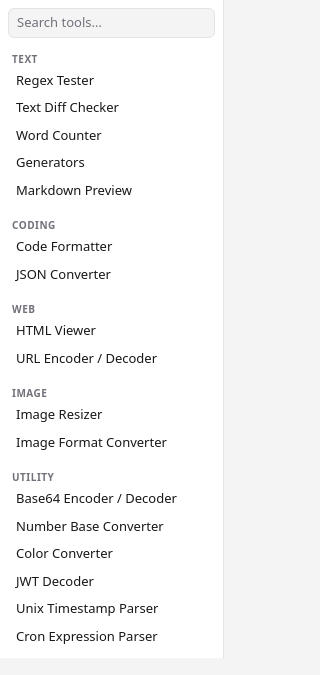
SideMenu › shows empty state when nothing matches
Type "zzzz" into the field with placeholder "Search tools…" at (112, 23), box [8,8,215,38]
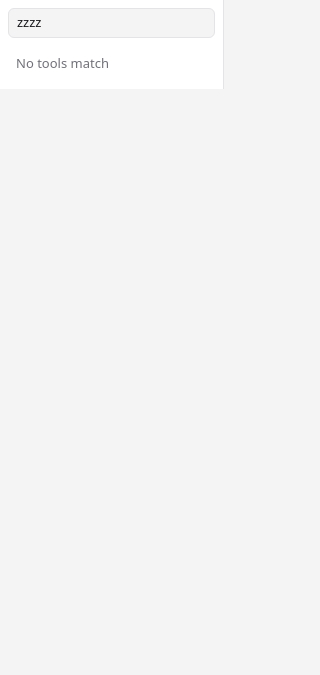
expect the text "No tools match" is shown: met, box [16,54,109,72]
